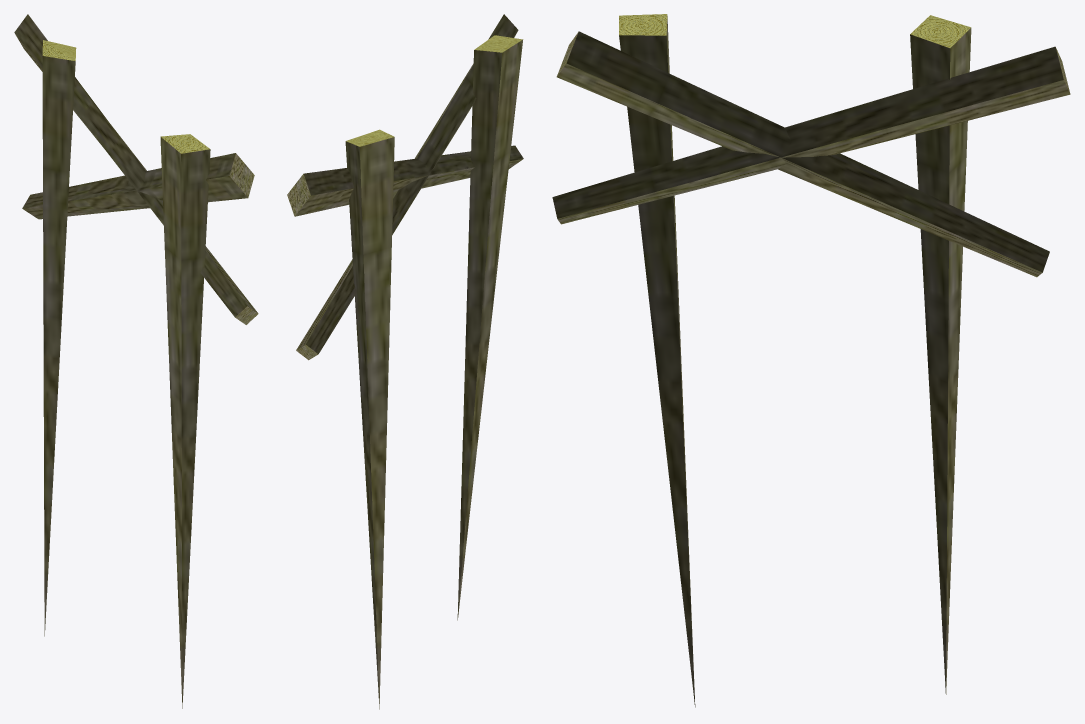
File: fence02.obj
3 views of the same model, side by side, from view 1: azimuth 30°, elevation 25°; view 2: azimuth 150°, elevation 25°; view 3: azimuth 270°, elevation 25° (orthographic). The views are drawn at different scales.
Visible parts, largest first — view 1: Duplicate04, Duplicate02, Duplicate01, Duplicate03, Duplicate05, Box01; view 2: Duplicate02, Duplicate04, Duplicate03, Duplicate01, Duplicate05, Box01; view 3: Duplicate03, Duplicate01, Duplicate02, Duplicate04, Box01, Duplicate05.
Boxes of the visible parts, <box> form: Duplicate04: <box>160,137,210,708</box>; Duplicate02: <box>42,56,75,636</box>; Duplicate01: <box>14,14,258,324</box>; Duplicate03: <box>22,153,254,219</box>; Duplicate05: <box>161,134,209,153</box>; Box01: <box>42,40,76,60</box>; Duplicate02: <box>345,137,394,709</box>; Duplicate04: <box>457,40,522,620</box>; Duplicate03: <box>296,14,518,360</box>; Duplicate01: <box>287,145,523,216</box>; Duplicate05: <box>474,35,522,52</box>; Box01: <box>346,129,394,146</box>; Duplicate03: <box>556,31,1049,277</box>; Duplicate01: <box>552,46,1070,224</box>; Duplicate02: <box>910,28,971,694</box>; Duplicate04: <box>619,16,695,707</box>; Box01: <box>910,15,970,47</box>; Duplicate05: <box>619,14,667,35</box>.
Size of the model in its own units: 7.78 by 83.05 by 57.01.
